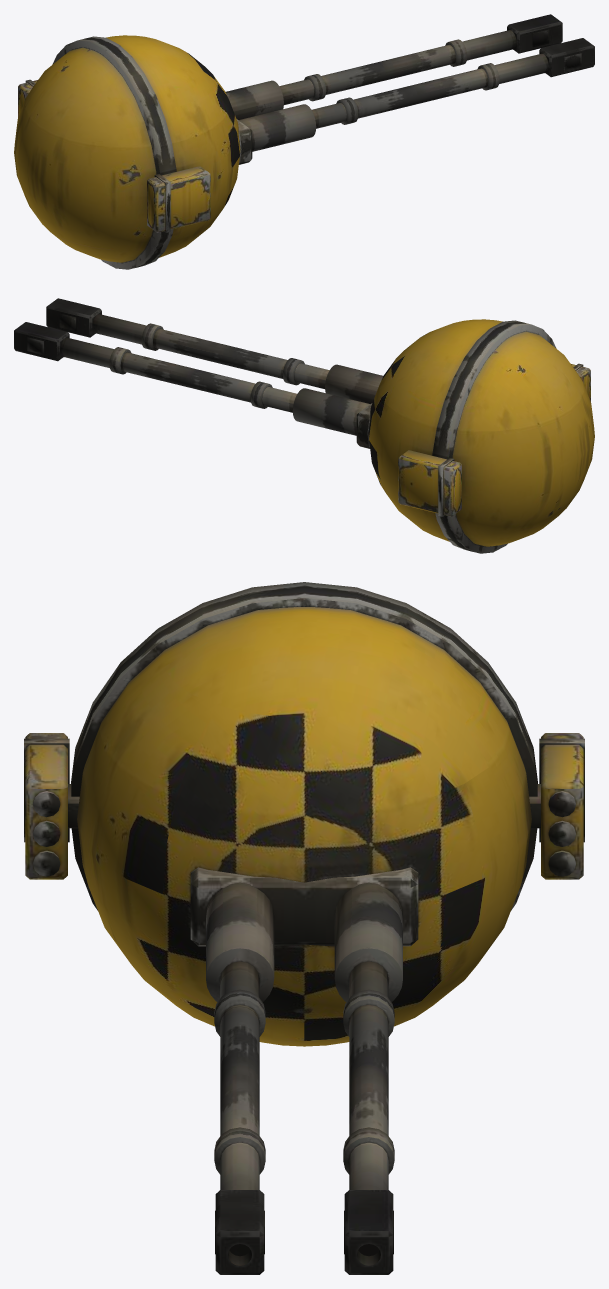
Rendered from turret_kit_tail_ball_t2_chequer.glb.
3 views of the same model, one above another, from view 1: azimuth 30°, elevation 25°; view 2: azimuth 150°, elevation 25°; view 3: azimuth 270°, elevation 25° (orthographic). The views are drawn at different scales.
Parts seen in each view (by area): view 1: turret_tail_ball_t2, pods; view 2: turret_tail_ball_t2, pods; view 3: turret_tail_ball_t2, pods.
Part boxes in pixels (x1,y1,x2,y2): turret_tail_ball_t2: (14,14,594,269); pods: (18,79,210,232); turret_tail_ball_t2: (14,298,594,553); pods: (398,363,590,516); turret_tail_ball_t2: (71,582,537,1274); pods: (24,733,584,879).
Bounding box in the file's own units: 1.66 × 0.62 × 0.7402.
2 materials, 2 textured.
